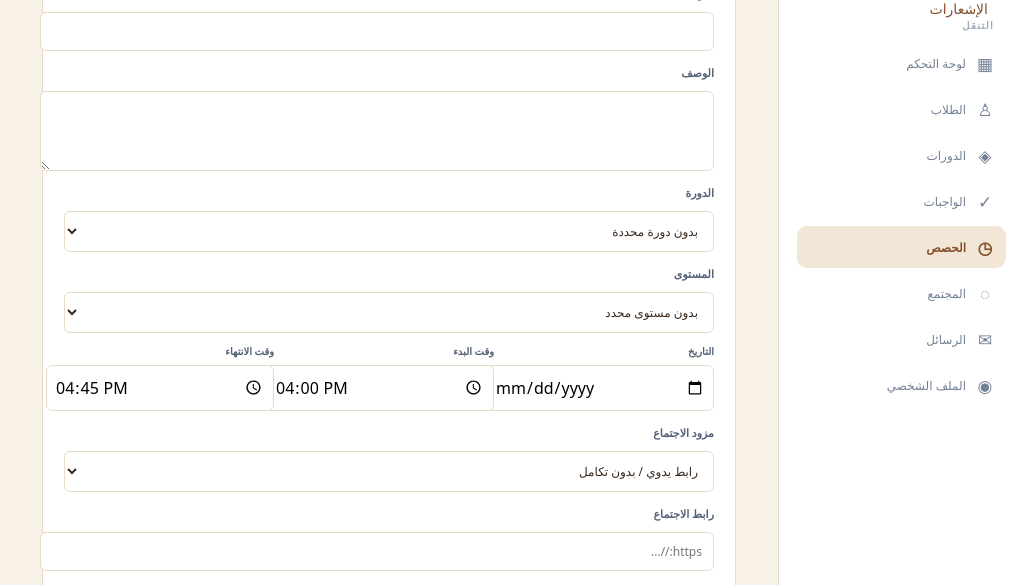
teacher sees server Zoom configuration state and automatic meeting option
This screenshot has width=1024, height=585.
Select "إنشاء اجتماع Zoom تلقائيًا" in the dropdown labelled "مزود الاجتماع" at (389, 471), box [64,451,714,492]
(page scrolled)
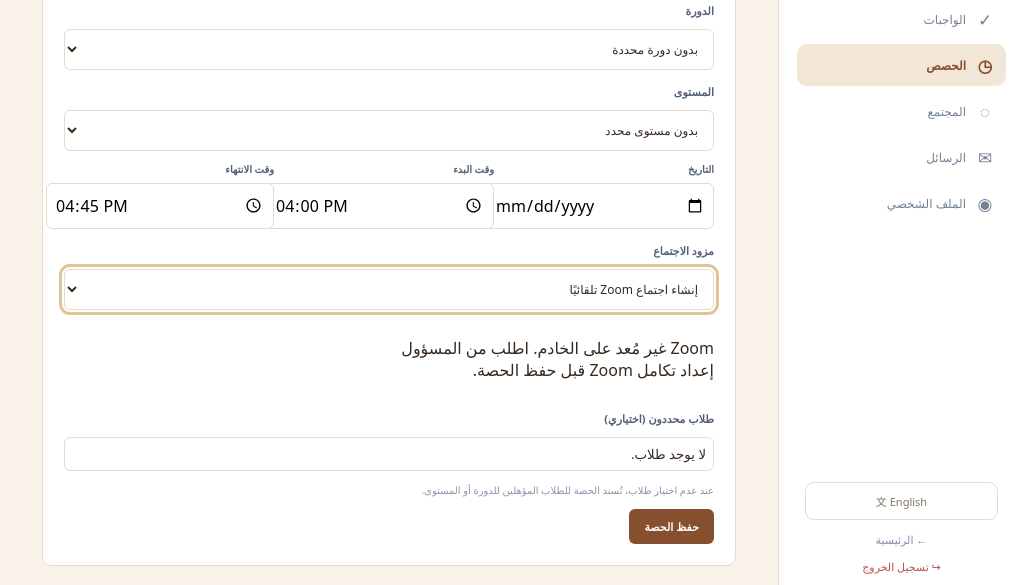
Expected: the button "حفظ الحصة" is enabled, [629,509,714,544]
Expected: the text "Zoom غير مُعد على الخادم. اطلب من المسؤول إعداد تكامل Zoom قبل حفظ الحصة." is shown, [396,337,714,381]
